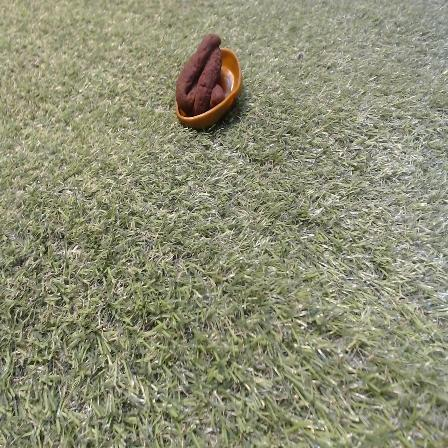dog-poop: (167, 33, 248, 131)
